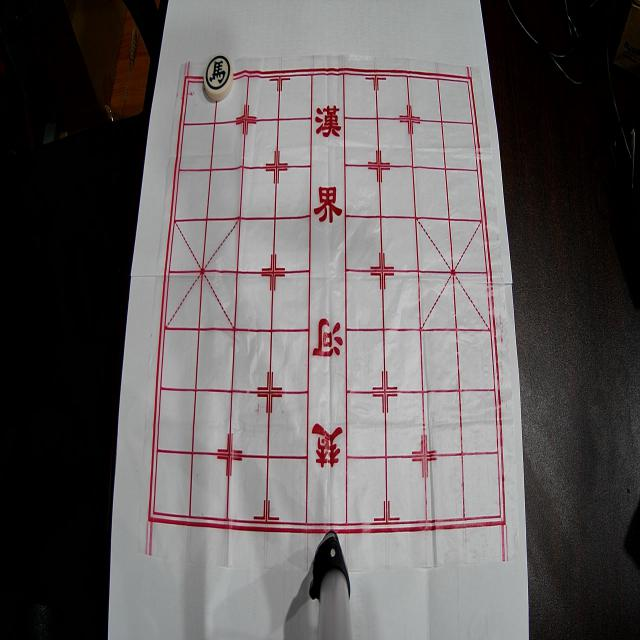black-horse: (204, 53, 233, 101)
